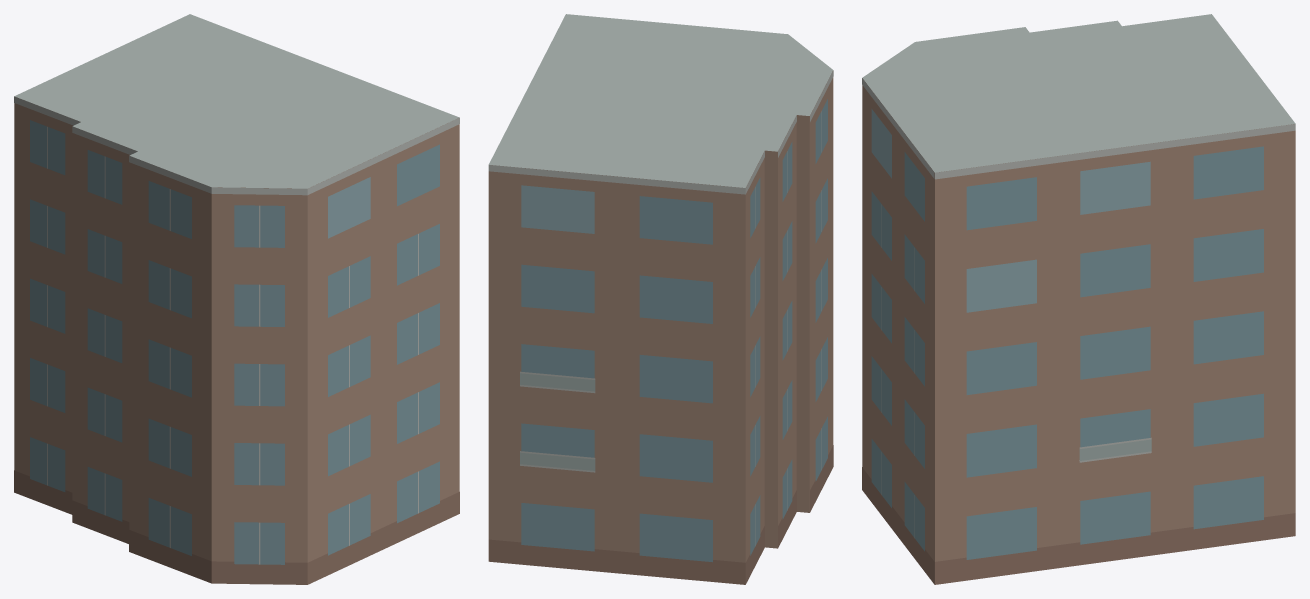
File: survey-upis-32890832.glb
3 renders of one model, left to right at view 1: azimuth 30°, elevation 25°; view 2: azimuth 150°, elevation 25°; view 3: azimuth 270°, elevation 25°, orthographic. The views are drawn at different scales.
Parts seen in each view (by area): view 1: survey-upis-32890832.tmp; view 2: survey-upis-32890832.tmp; view 3: survey-upis-32890832.tmp.
Boxes of the visible parts, x1=… form: survey-upis-32890832.tmp: x1=14, y1=14, x2=459, y2=584; survey-upis-32890832.tmp: x1=488, y1=14, x2=833, y2=584; survey-upis-32890832.tmp: x1=862, y1=14, x2=1295, y2=584.
Size of the model in its own units: 12.19 by 14.75 by 14.07.
